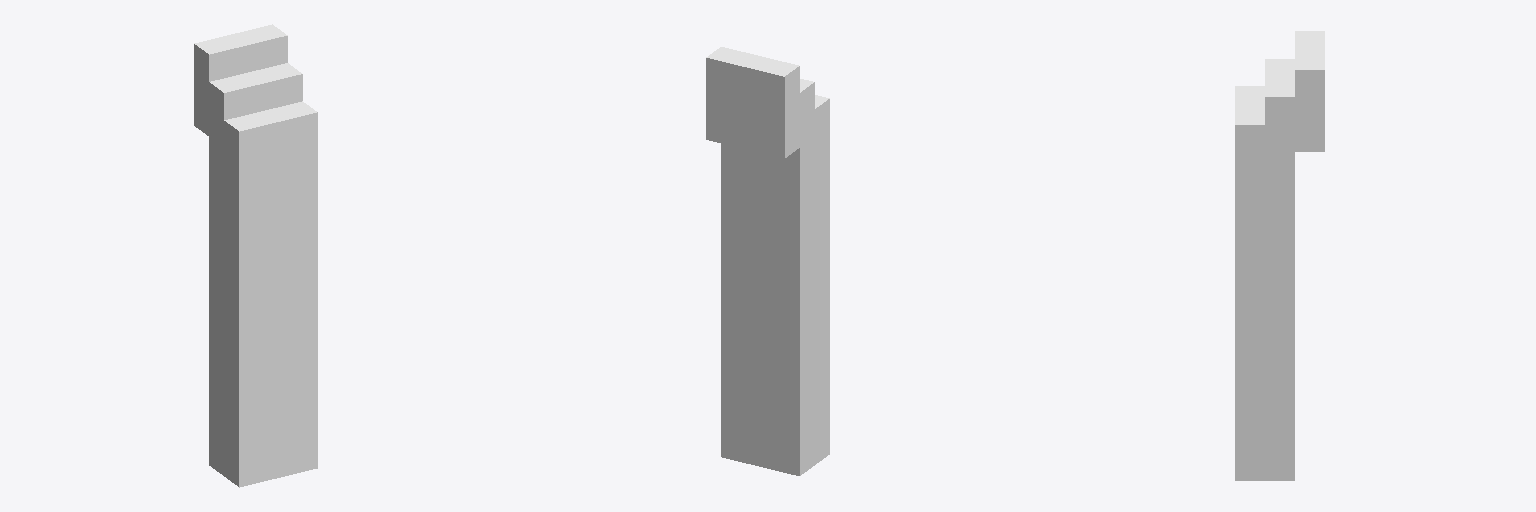
The model's file is guy_hand_left.obj.
3 renders of one model, left to right at view 1: azimuth 30°, elevation 25°; view 2: azimuth 150°, elevation 25°; view 3: azimuth 270°, elevation 25°, orthographic.
Visible parts, largest first — view 1: object 1; view 2: object 1; view 3: object 1.
Boxes of the visible parts, x1=… form: object 1: x1=194, y1=24, x2=317, y2=487; object 1: x1=706, y1=47, x2=829, y2=475; object 1: x1=1235, y1=31, x2=1324, y2=480.
Size of the model in its own units: 0.3 by 1.5 by 0.3.